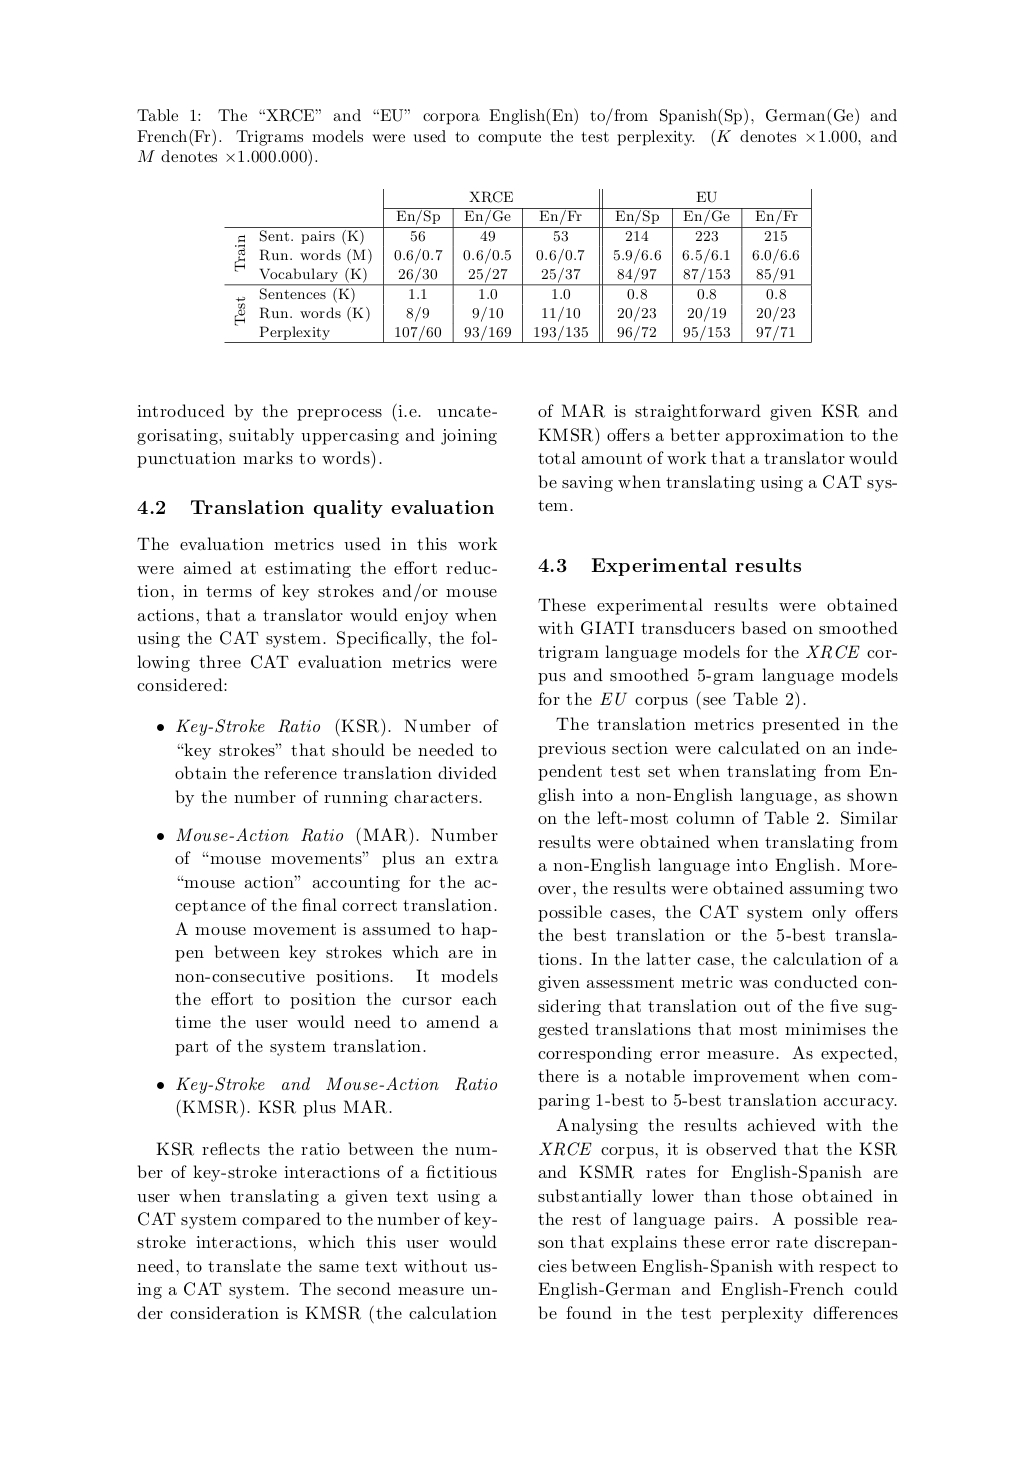Table: (224, 189, 811, 344)
